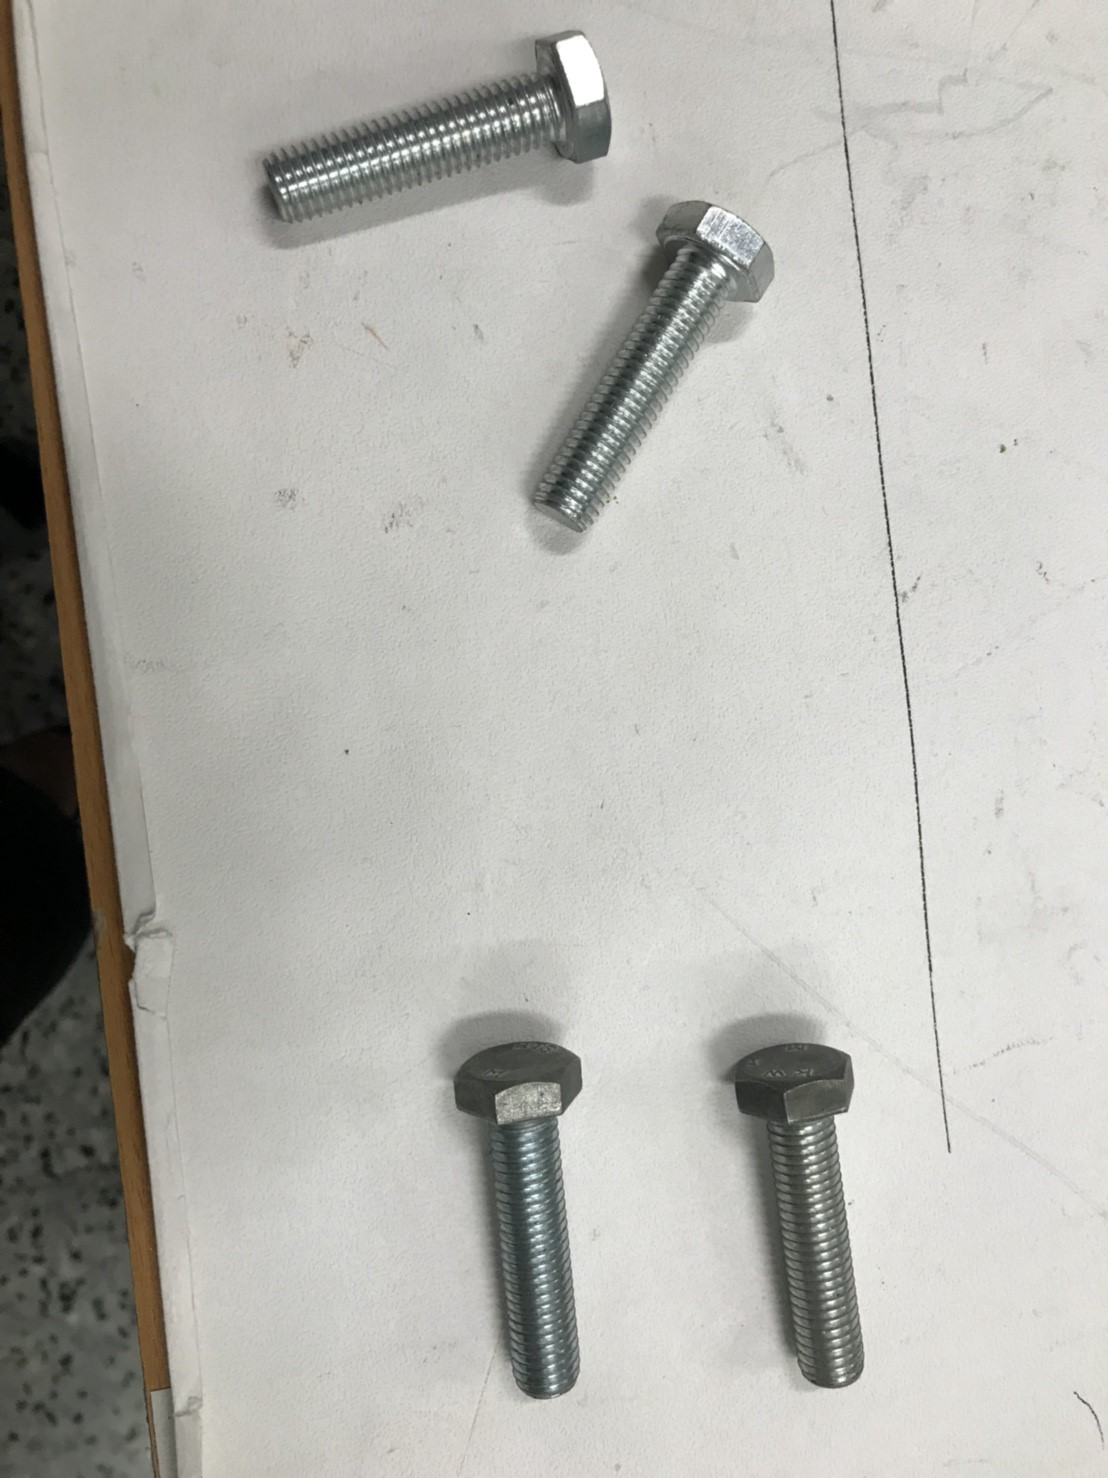screw: (527, 196, 788, 546), (254, 23, 630, 232), (439, 1033, 613, 1406), (722, 1026, 887, 1393)
